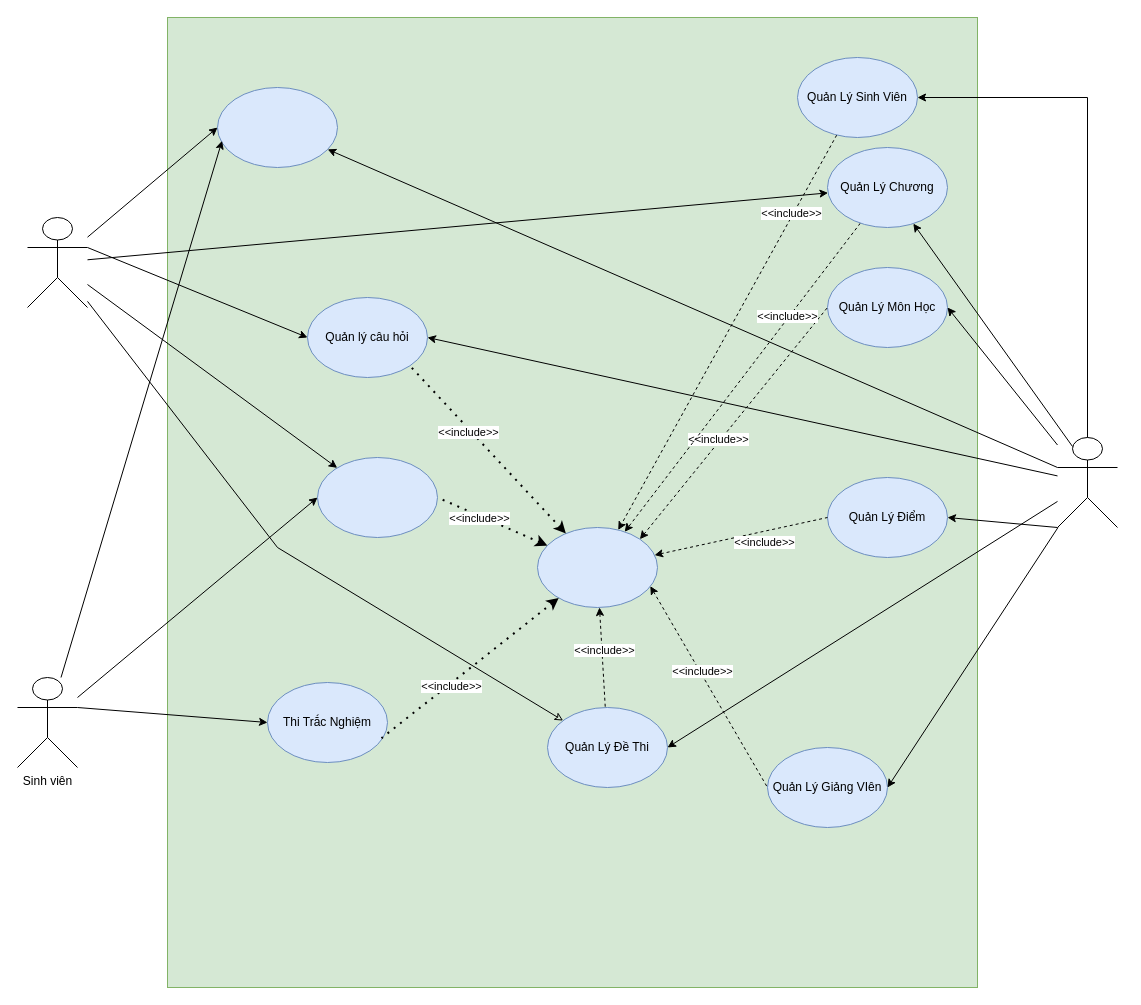
The diagram is 1141 pixels wide and 1005 high, and some of its shapes have lost their labels. Here are the shapes that lost their labels. From the top down, the centre of each, then its label:
At [277,127]: "Đăng Xuất".
At [57,262]: "Giảng Viên".
At [377,497]: "Tra cứu điểm".
At [1087,482]: "Quản Trị Viên".
At [597,567]: "Đăng Nhập".
